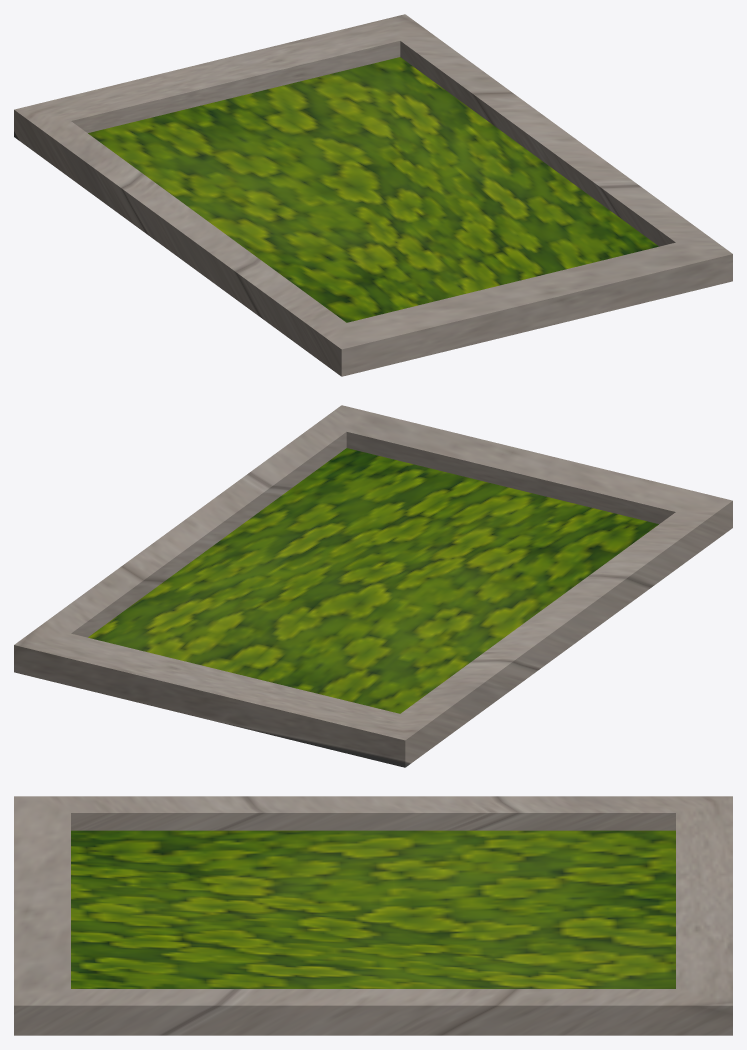
Rendered from yola eklenecek yeşillik.fbx.
3 renders of one model, top to bottom at view 1: azimuth 30°, elevation 25°; view 2: azimuth 150°, elevation 25°; view 3: azimuth 270°, elevation 25°, orthographic. The views are drawn at different scales.
Parts seen in each view (by area): view 1: Cube.001; view 2: Cube.001; view 3: Cube.001.
Part boxes in pixels (bbox=[...]): Cube.001: bbox=[14, 14, 732, 376]; Cube.001: bbox=[14, 405, 732, 767]; Cube.001: bbox=[14, 796, 732, 1035].
Bounding box in the file's own units: 156 × 10.38 × 226.
Materials: 2 (2 with a texture image).
